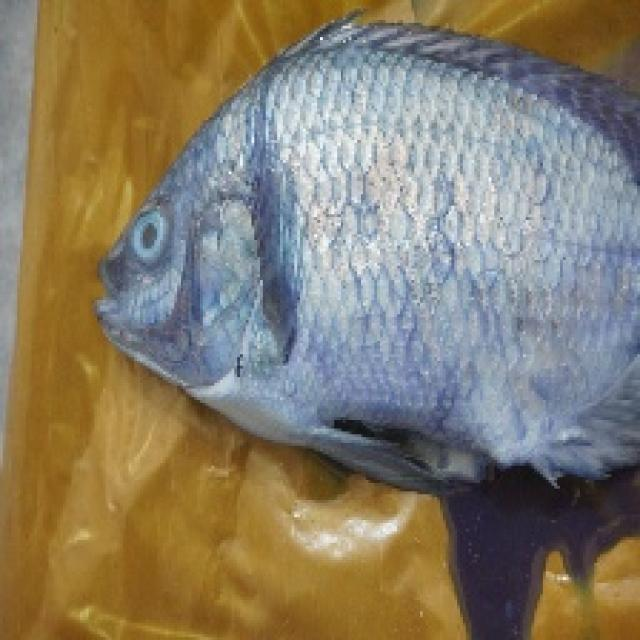Non-Fresh: (120, 40, 623, 477), (114, 200, 189, 273)
